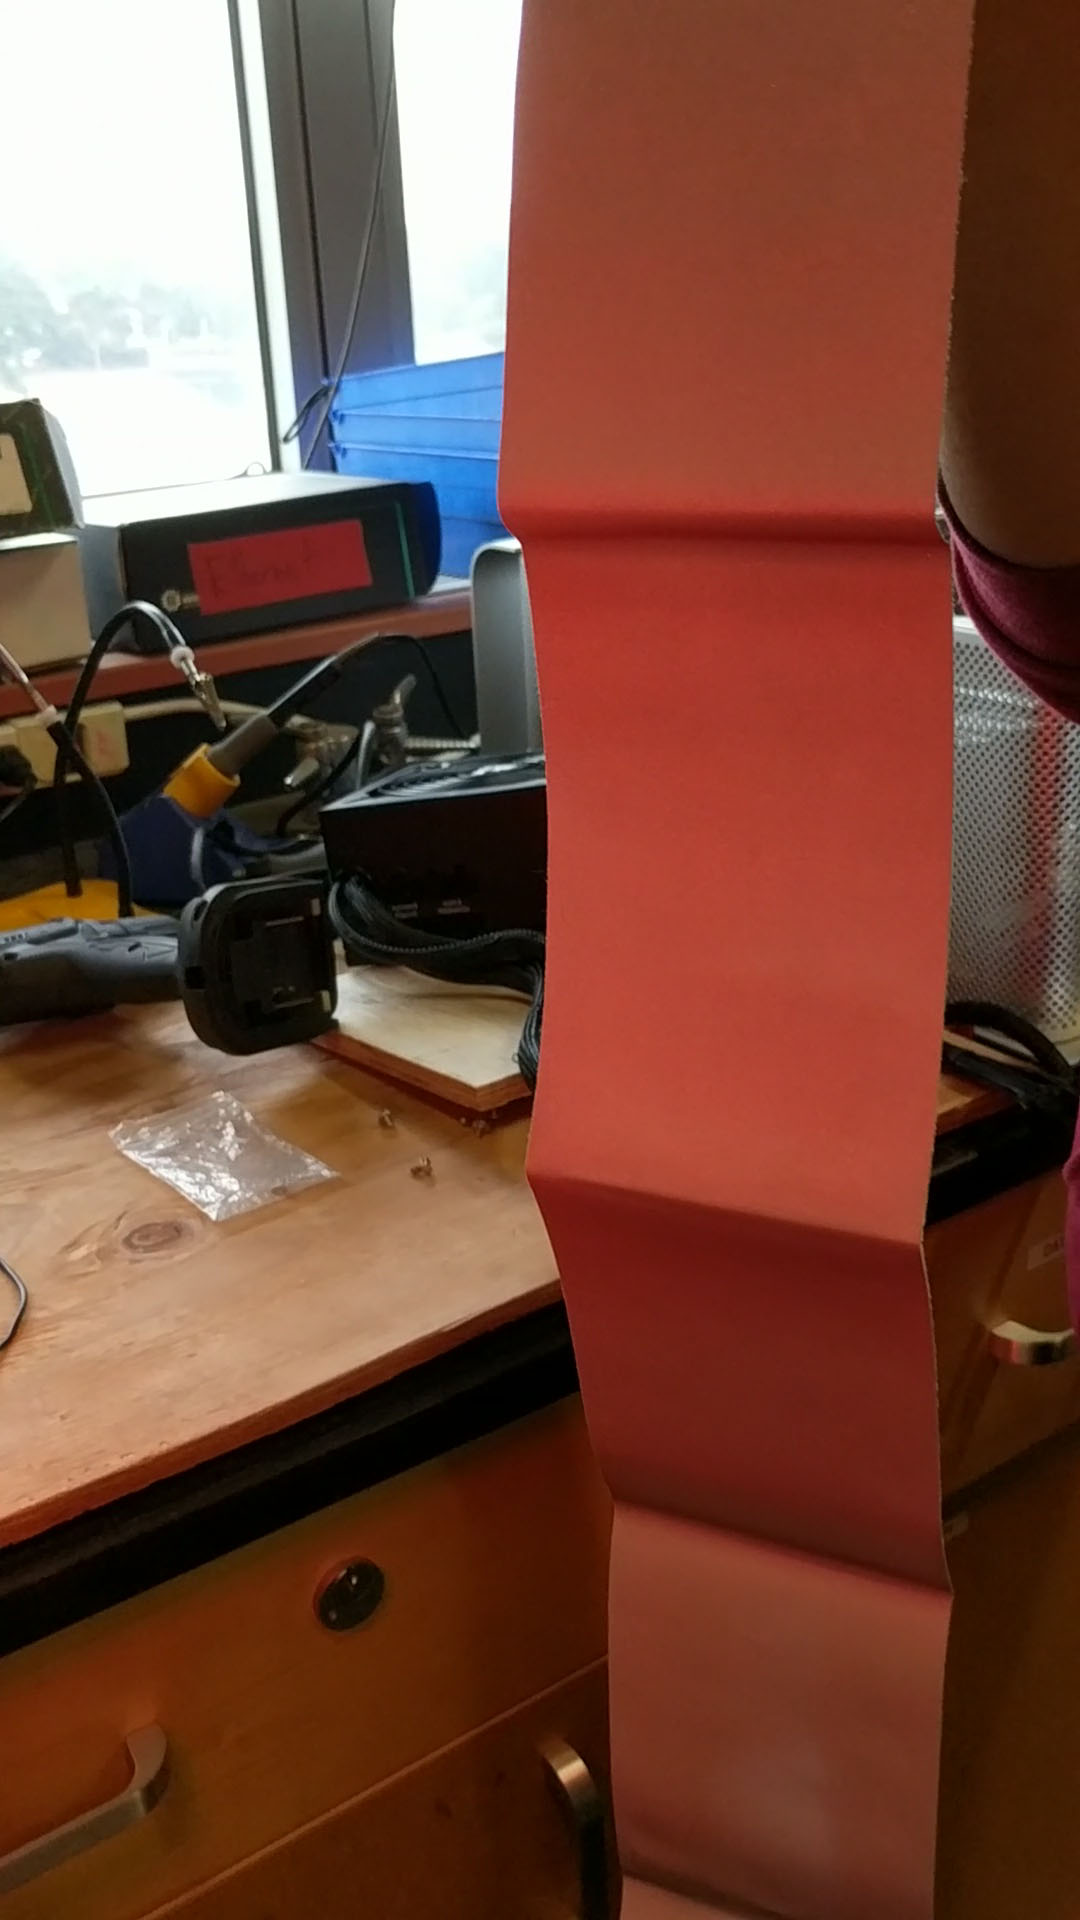gear: (500, 0, 952, 1920)
